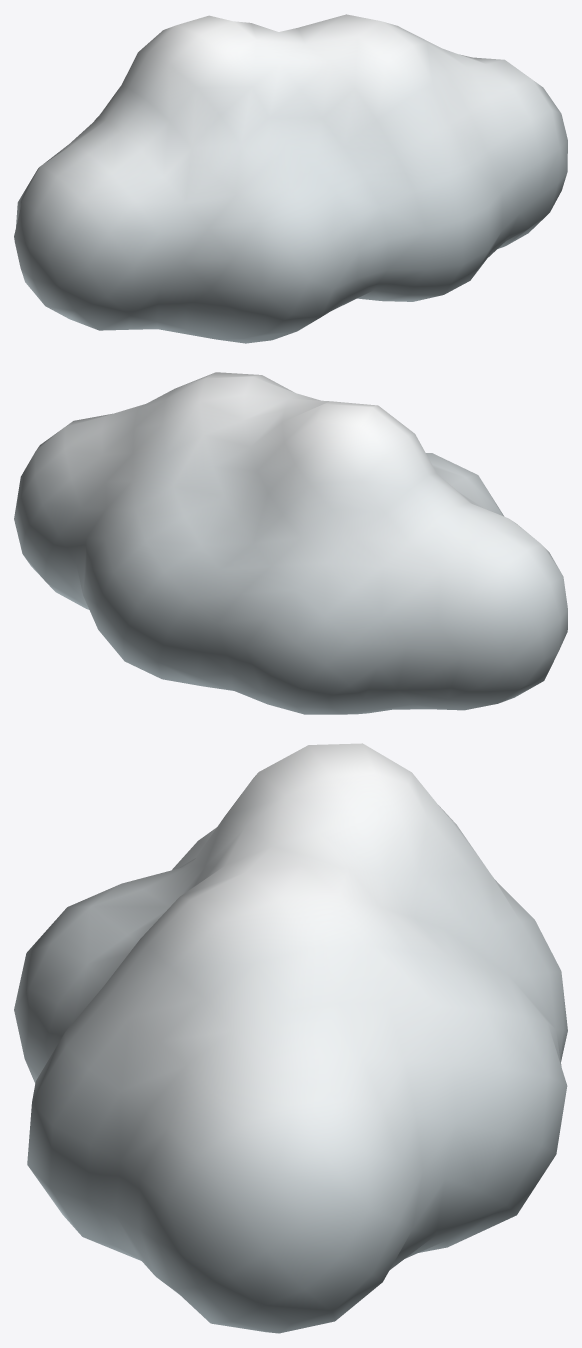
Rendered from cloud_big.glb.
The picture shows the model from 3 angles, top to bottom: view 1: azimuth 30°, elevation 25°; view 2: azimuth 150°, elevation 25°; view 3: azimuth 270°, elevation 25°; orthographic projection. The views are drawn at different scales.
Visible parts, largest first — view 1: cloud_big; view 2: cloud_big; view 3: cloud_big.
Part boxes in pixels (left/top/right/bottom): cloud_big: left=14, top=14, right=567, bottom=343; cloud_big: left=14, top=372, right=567, bottom=714; cloud_big: left=14, top=743, right=567, bottom=1333.
Size of the model in its own units: 3.61 by 1.95 by 2.24.
1 material, 1 textured.
